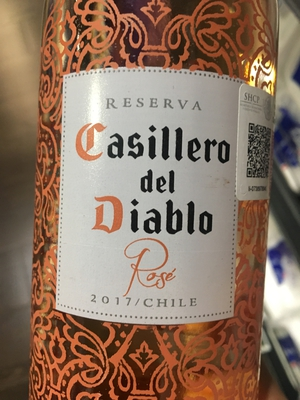casillero del diablo rose: (27, 5, 277, 400)
